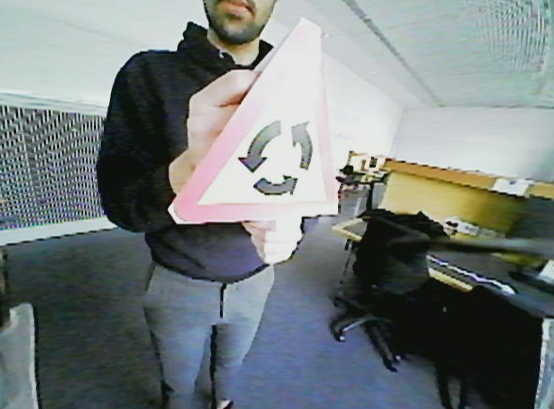roundabout_warning: (156, 14, 350, 228)
